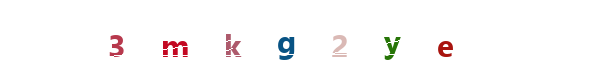2: (263, 0, 343, 80)
3: (154, 0, 234, 80)
E: (351, 0, 431, 80)
G: (258, 0, 338, 80)
K: (246, 0, 326, 80)
M: (241, 0, 321, 80)
Y: (286, 0, 366, 80)
